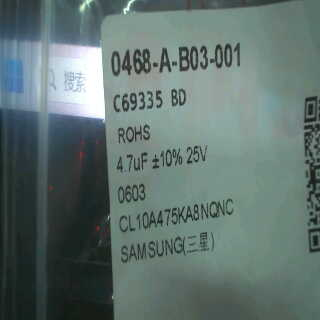4.7uF: (116, 151, 151, 178)
